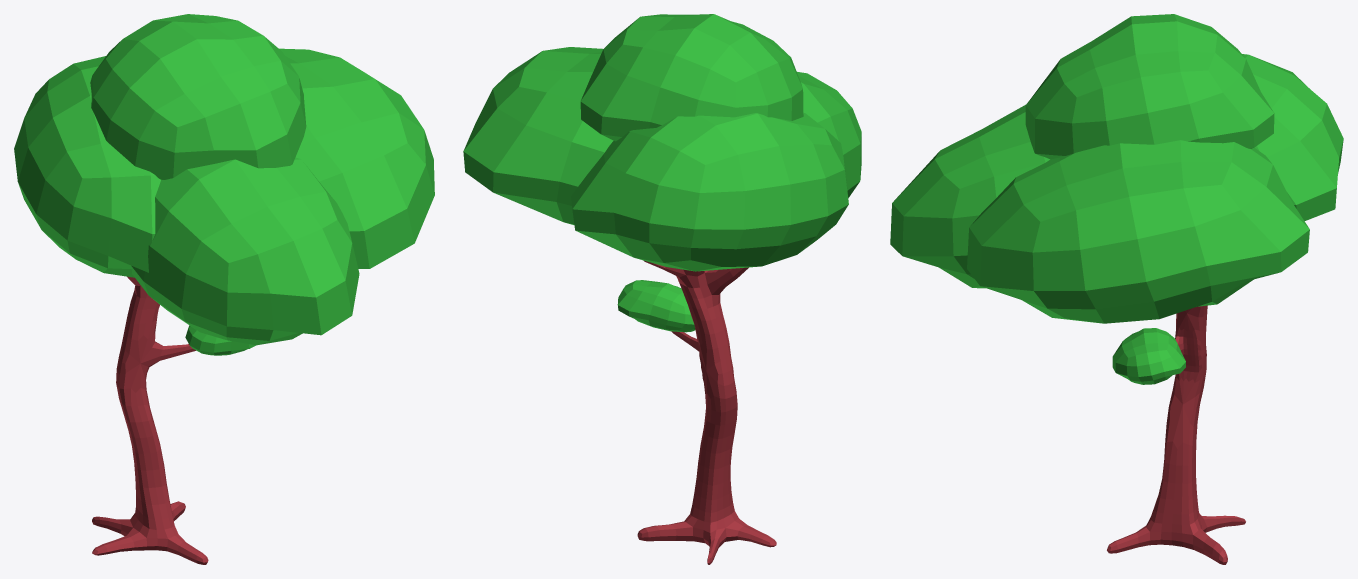
The model's file is Tree3.fbx.
The picture shows the model from 3 angles, left to right: view 1: azimuth 30°, elevation 25°; view 2: azimuth 150°, elevation 25°; view 3: azimuth 270°, elevation 25°; orthographic projection. The views are drawn at different scales.
Visible parts, largest first — view 1: tree(leavespart).002; view 2: tree(leavespart).002; view 3: tree(leavespart).002.
Part boxes in pixels (box(x1,y1,x2,y2)): tree(leavespart).002: box(14, 14, 434, 564); tree(leavespart).002: box(463, 14, 861, 564); tree(leavespart).002: box(890, 14, 1343, 564).
Size of the model in its own units: 1793 by 2483 by 1916.
